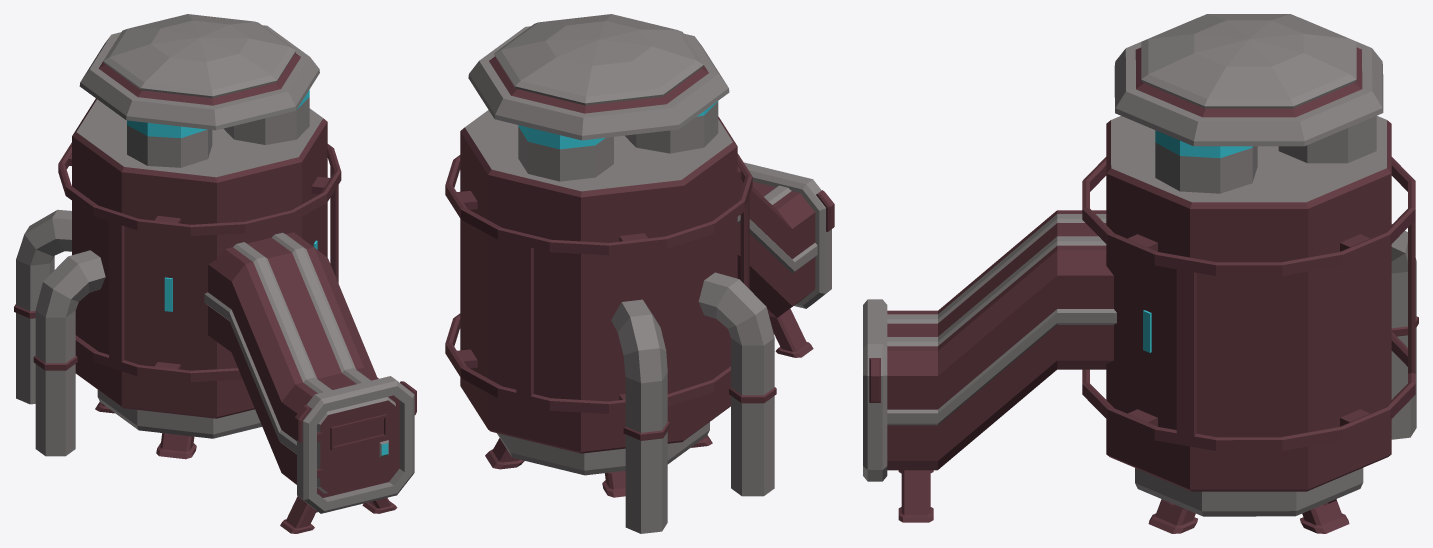
File: scifi-planet-base-generator-big.fbx
The picture shows the model from 3 angles, left to right: view 1: azimuth 30°, elevation 25°; view 2: azimuth 150°, elevation 25°; view 3: azimuth 270°, elevation 25°; orthographic projection. The views are drawn at different scales.
Parts seen in each view (by area): view 1: scifi-planet-base-generator-big; view 2: scifi-planet-base-generator-big; view 3: scifi-planet-base-generator-big.
Part boxes in pixels (<box>): scifi-planet-base-generator-big: <box>14,14,416,533</box>; scifi-planet-base-generator-big: <box>445,14,834,533</box>; scifi-planet-base-generator-big: <box>863,14,1418,533</box>.
Size of the model in its own units: 8.03 by 10.34 by 11.52.
